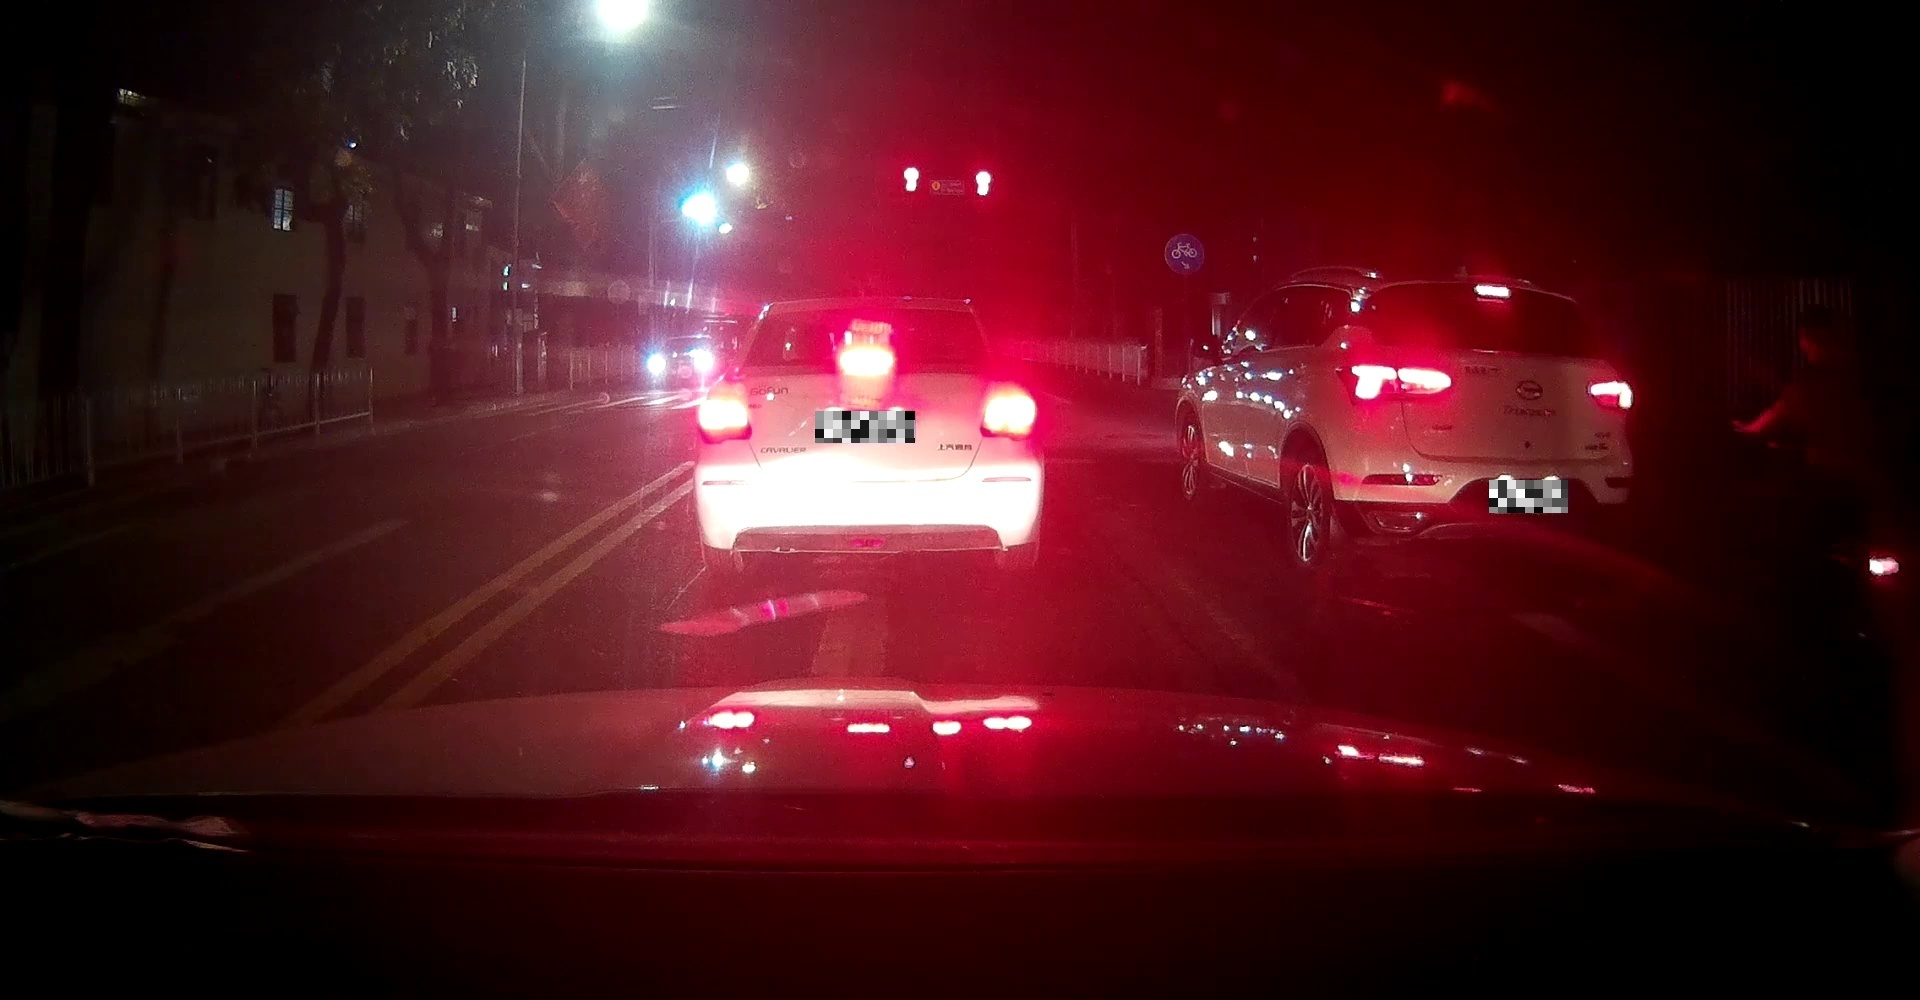L_light: (1333, 365, 1454, 406), (696, 395, 752, 444)
R_light: (978, 391, 1037, 442), (1586, 378, 1634, 410)
T_light: (839, 346, 894, 373), (1473, 283, 1511, 299)
night-brake: (693, 294, 1044, 574), (1327, 270, 1634, 574)
plate_1: (815, 411, 916, 443)
plate_2: (1490, 480, 1568, 513)
